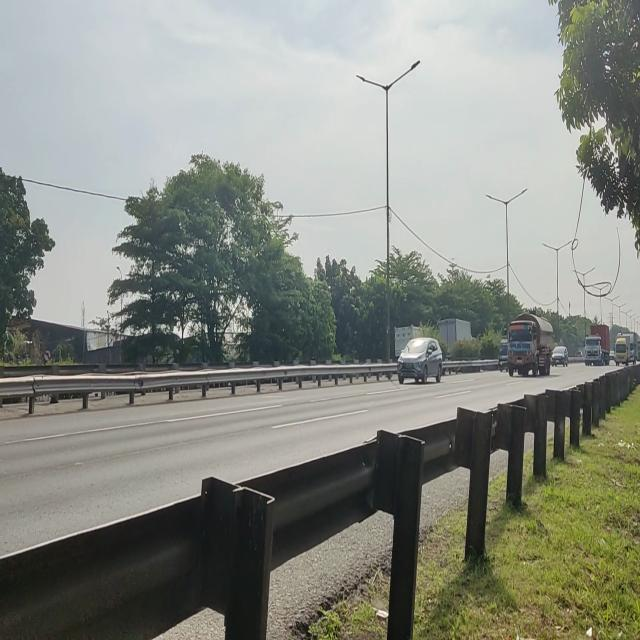Golongan I: (396, 329, 446, 391)
